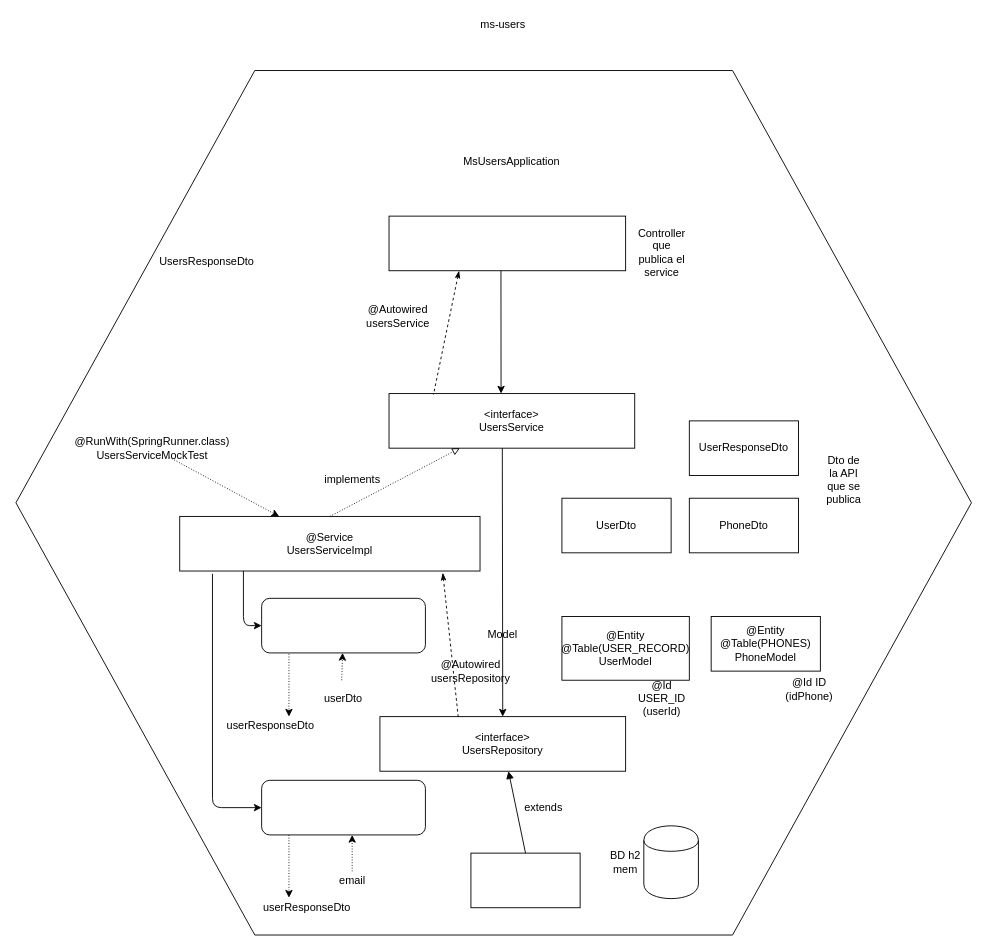
The diagram is 987 pixels wide and 951 high, and some of its shapes have lost their labels. The centre of each missing label's shape, as x and y in pixels:
"@RestController UsersController" belongs at point (507, 243).
"getUser" belongs at point (343, 807).
"JpaRepository" belongs at point (525, 880).
"recordUser" belongs at point (343, 625).
